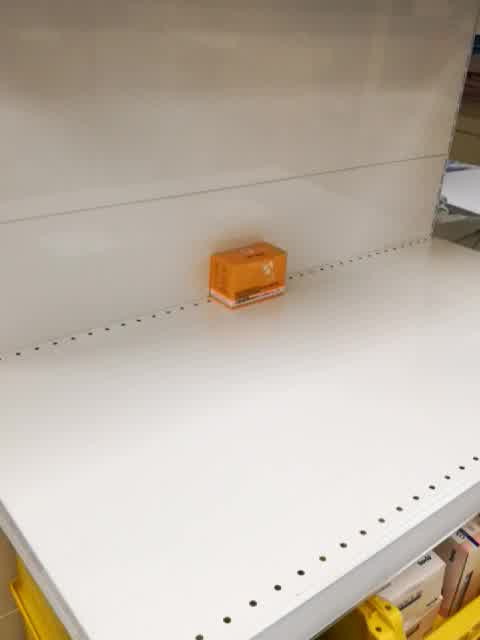jasminetea: (208, 241, 287, 310)
